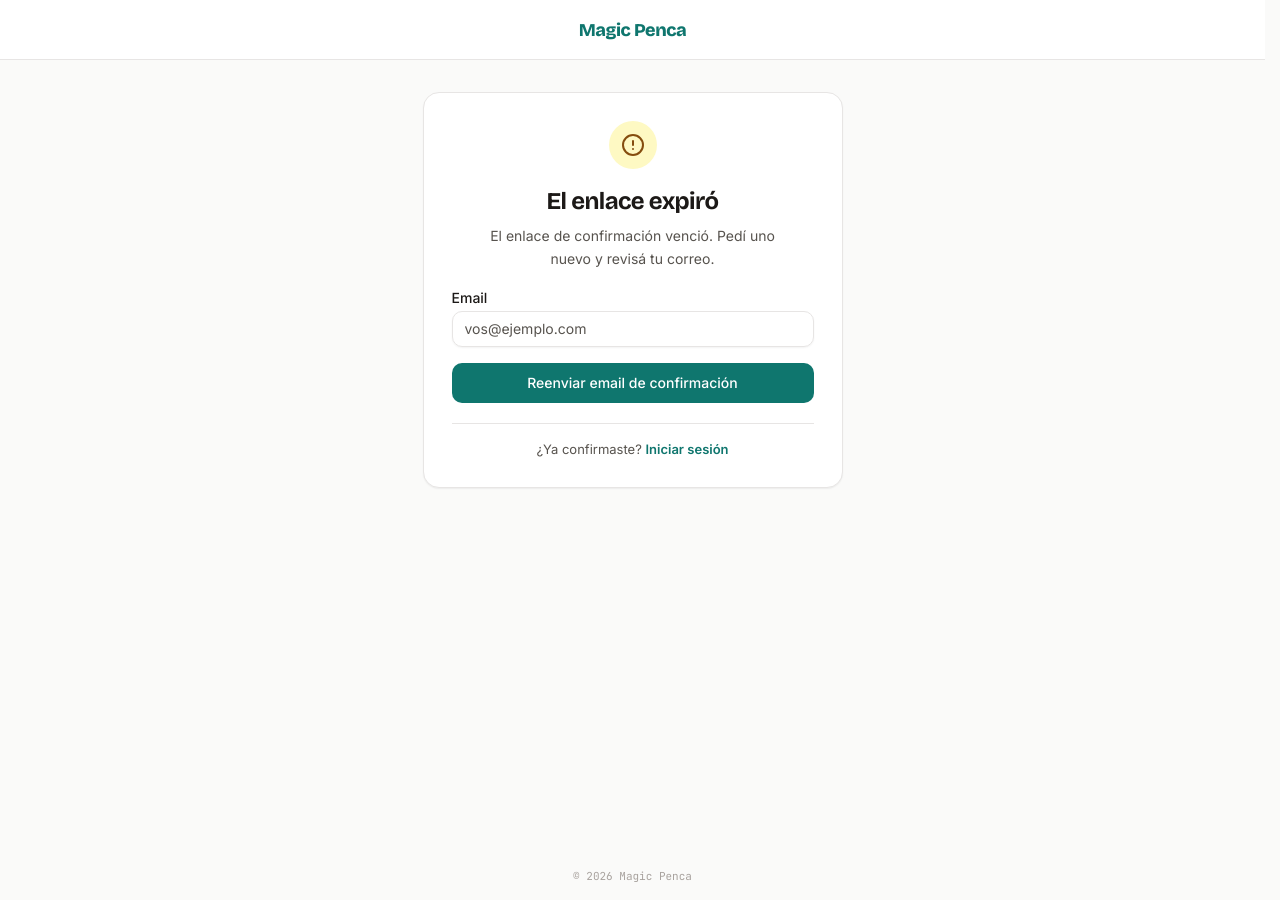
Test case: ConfirmEmailPage › validates the email before resending
This screenshot has width=1280, height=900.
Click the button "Reenviar email de confirmación".
click(632, 382)  # box [452,362,814,402]
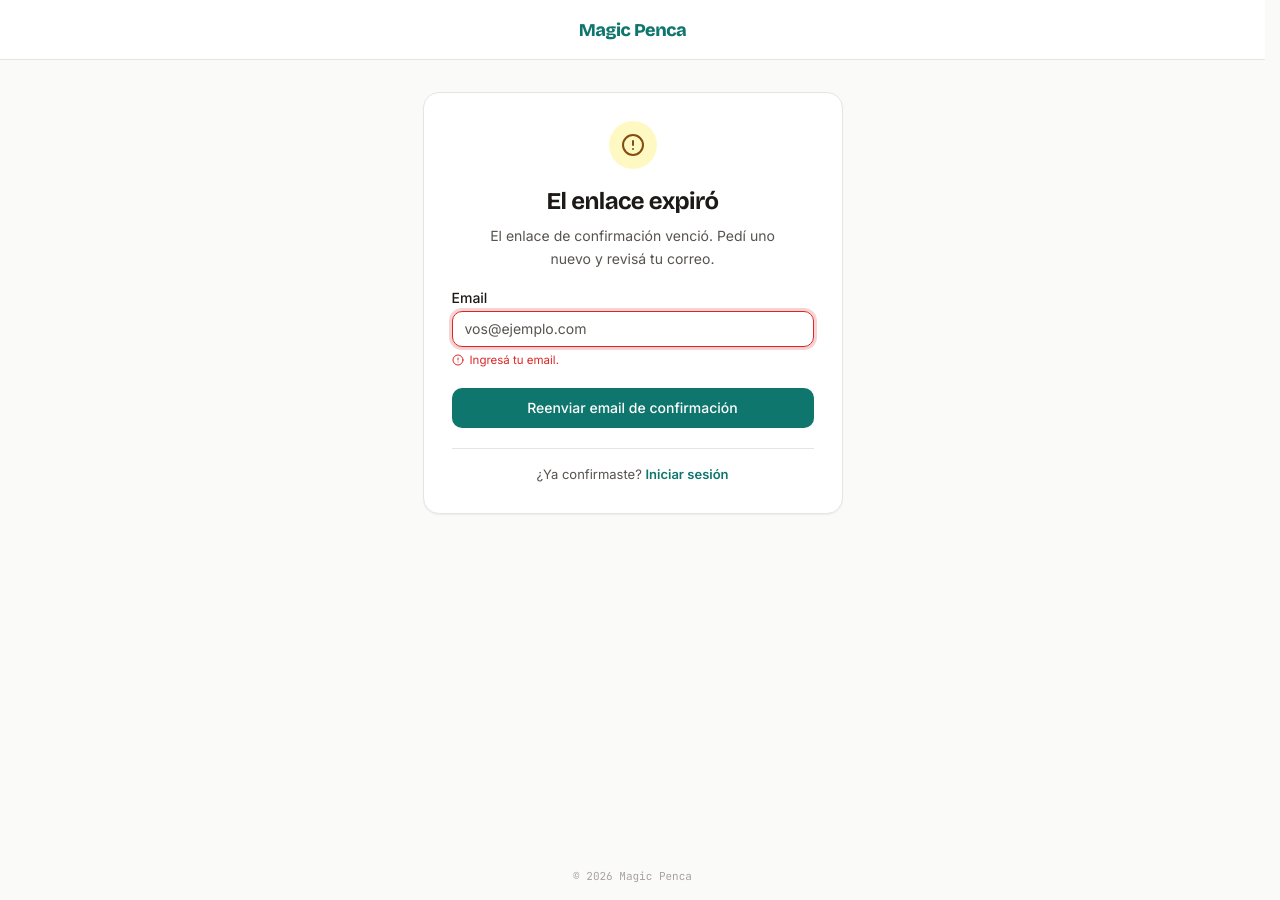
Result: the text "Ingresá tu email." is shown at [452,352,559,368]
